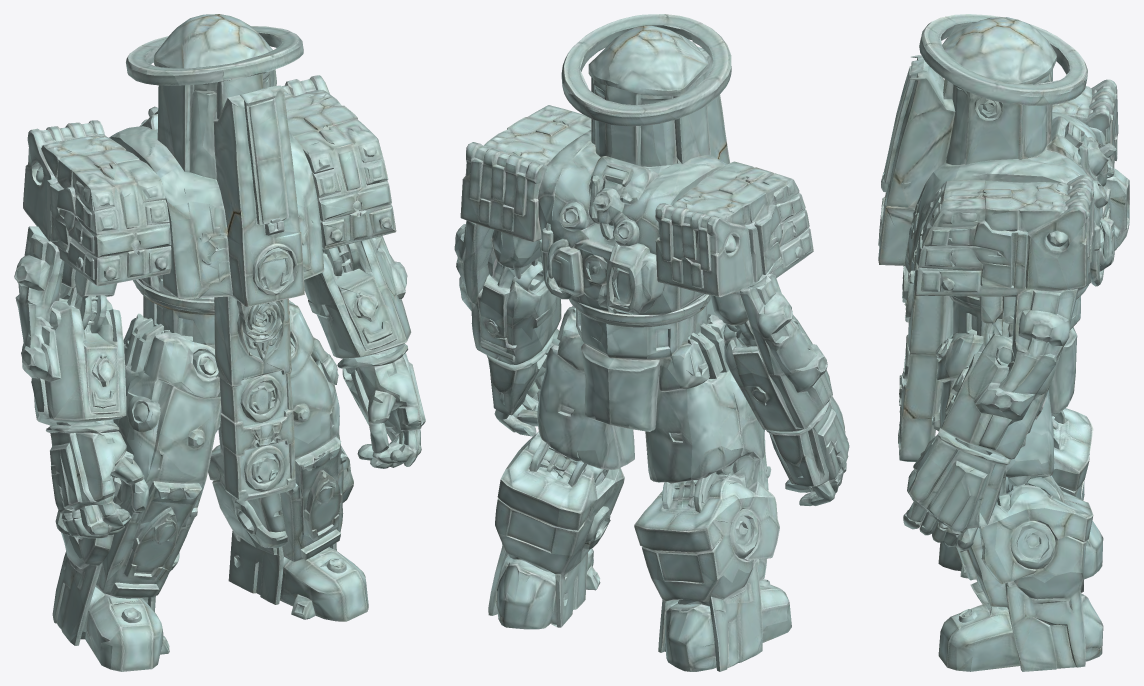
File: fb_alp_ruinsgolem.glb
The picture shows the model from 3 angles, left to right: view 1: azimuth 30°, elevation 25°; view 2: azimuth 150°, elevation 25°; view 3: azimuth 270°, elevation 25°; orthographic projection. The views are drawn at different scales.
Size of the model in its own units: 1.24 by 1.9 by 0.7384.
1 material, 1 textured.
